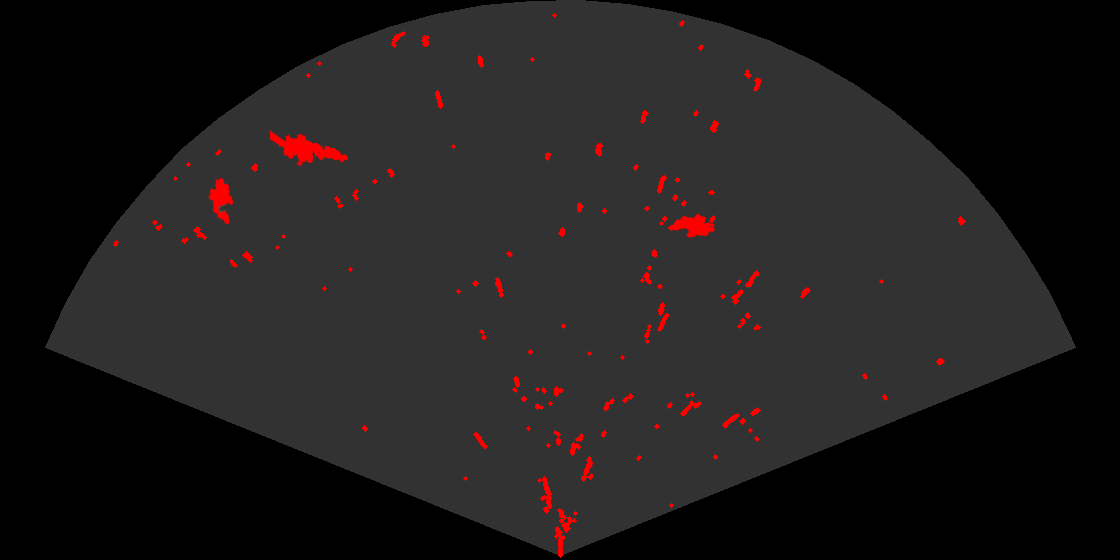AUV: (207, 176, 235, 226), (666, 212, 717, 239)
frogman: (270, 129, 349, 167)
